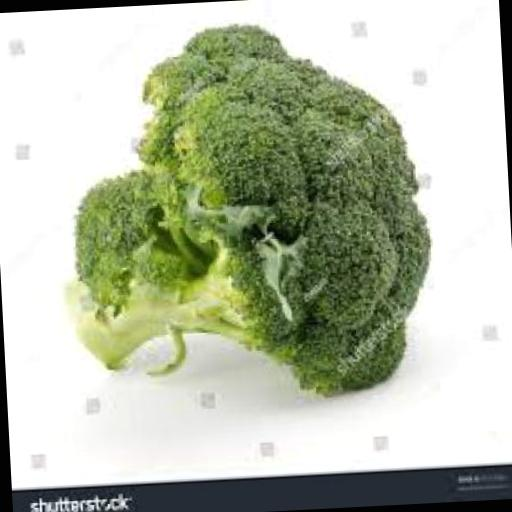biodegradable: (62, 10, 434, 404)
